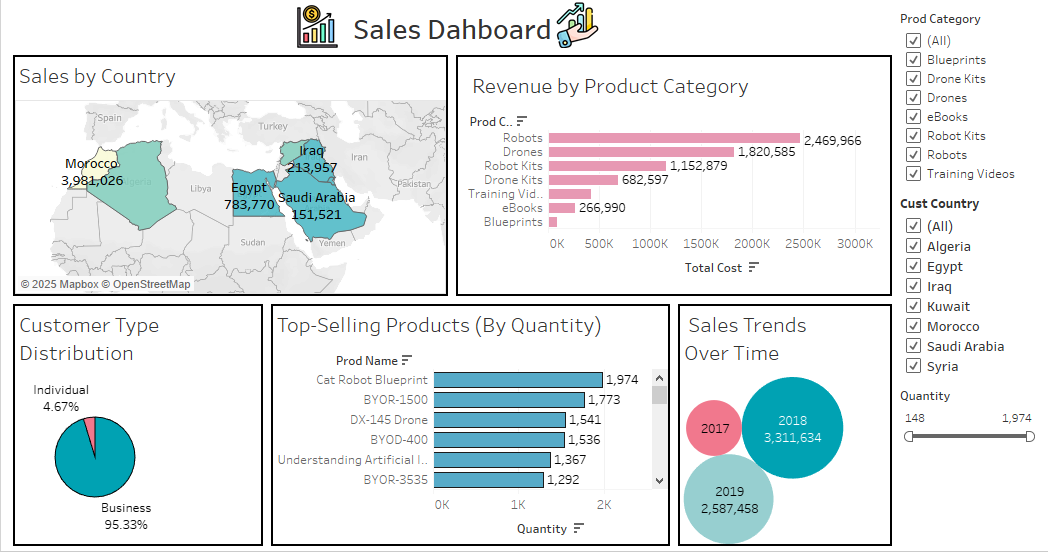

The page's visual inventory and layout, read from the dashboard file:
{"tool":"tableau","page":{"name":"Dashboard 1","canvas":[1000,1000],"units":"permille","ordinal":0},"visuals":[{"type":"title","box":[0,0,1000,76.5]},{"type":"filter","title":"Top-Selling Products (By Quantity)","param":"[federated.0ot60jw1vbpxny1c1xupx0awczbc].[sum:Quantity:qk]","box":[398.6,11.2,122.9,123.1]},{"type":"filter","title":"Sales by Country","param":"[federated.0ot60jw1vbpxny1c1xupx0awczbc].[none:CustCountry:nk]","box":[849,16.8,141.3,98.9]},{"type":"filter","title":" Sales Trends Over Time","param":"[federated.0ot60jw1vbpxny1c1xupx0awczbc].[yr:OrderDate:ok]","box":[552.2,26.1,129.1,93.3]},{"type":"filter","title":"Revenue by Product Category","param":"[federated.0ot60jw1vbpxny1c1xupx0awczbc].[none:ProdCategory:nk]","box":[691.8,31.7,133.4,70.9]},{"type":"worksheet","title":"Revenue by Product Category","mark":"Automatic","rows":["ProdCategory"],"cols":["Total Cost"],"box":[373.1,123.1,434.6,391.8]},{"type":"worksheet","title":"Customer Type Distribution","mark":"Pie","box":[822.6,126.9,171.2,449.6]},{"type":"worksheet","title":"Sales by Country","mark":"Automatic","box":[612.8,503.7,381.9,486.9]},{"type":"worksheet","title":" Sales Trends Over Time","mark":"Circle","box":[9.7,509.3,241.4,483.2]},{"type":"worksheet","title":"Top-Selling Products (By Quantity)","mark":"Automatic","rows":["ProdName"],"cols":["Quantity"],"box":[255.5,511.2,354.7,475.8]}]}

Visuals, with their boxes on the dashboard's canvas, which has no fixed pixel size, in thousandths of its width and height (x1, y1, x2, y2). These are canvas units, not pixel positions in the 1048x552 screenshot, which may show the page scaled, cropped or inside an application window:
title: bbox(0, 0, 1000, 76)
"Top-Selling Products (By Quantity)" filter: bbox(399, 11, 522, 134)
"Sales by Country" filter: bbox(849, 17, 990, 116)
" Sales Trends Over Time" filter: bbox(552, 26, 681, 119)
"Revenue by Product Category" filter: bbox(692, 32, 825, 103)
"Revenue by Product Category" worksheet: bbox(373, 123, 808, 515)
"Customer Type Distribution" worksheet (Pie marks): bbox(823, 127, 994, 576)
"Sales by Country" worksheet: bbox(613, 504, 995, 991)
" Sales Trends Over Time" worksheet (Circle marks): bbox(10, 509, 251, 992)
"Top-Selling Products (By Quantity)" worksheet: bbox(256, 511, 610, 987)
